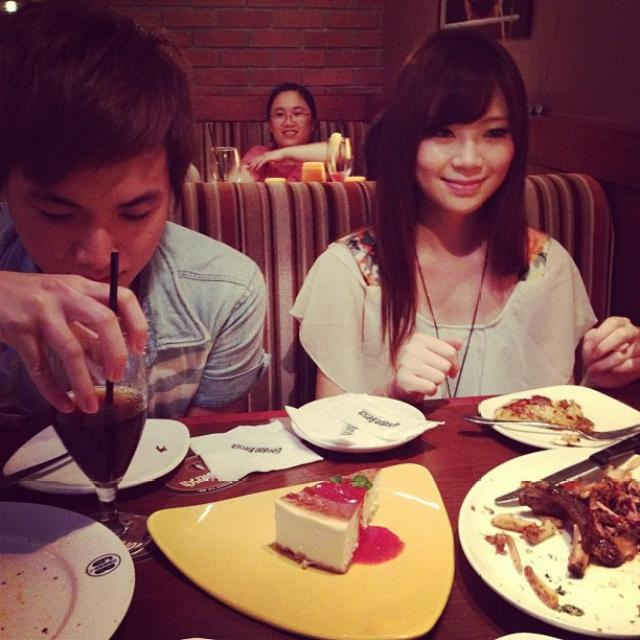chair: (265, 174, 614, 407), (173, 181, 285, 406), (185, 94, 388, 184)
dining table: (0, 384, 640, 640)
